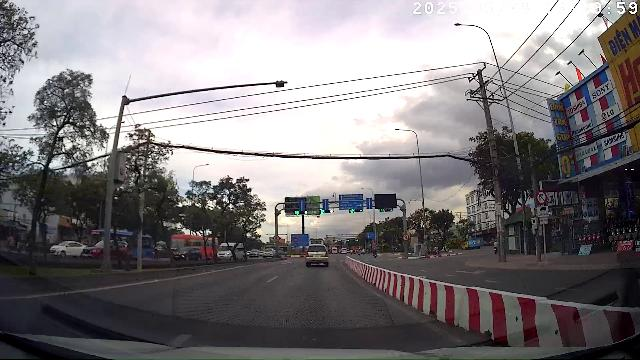123b-cam-re-phai: (535, 190, 547, 204)
